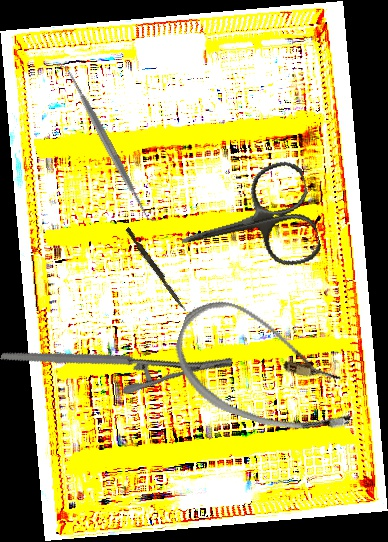Cannula: (160, 290, 374, 451)
Iris Scissors: (168, 156, 325, 292)
Needle Holder: (0, 279, 234, 438)
Pusher: (123, 227, 190, 312)
Spatula Surgical: (53, 55, 160, 230)
